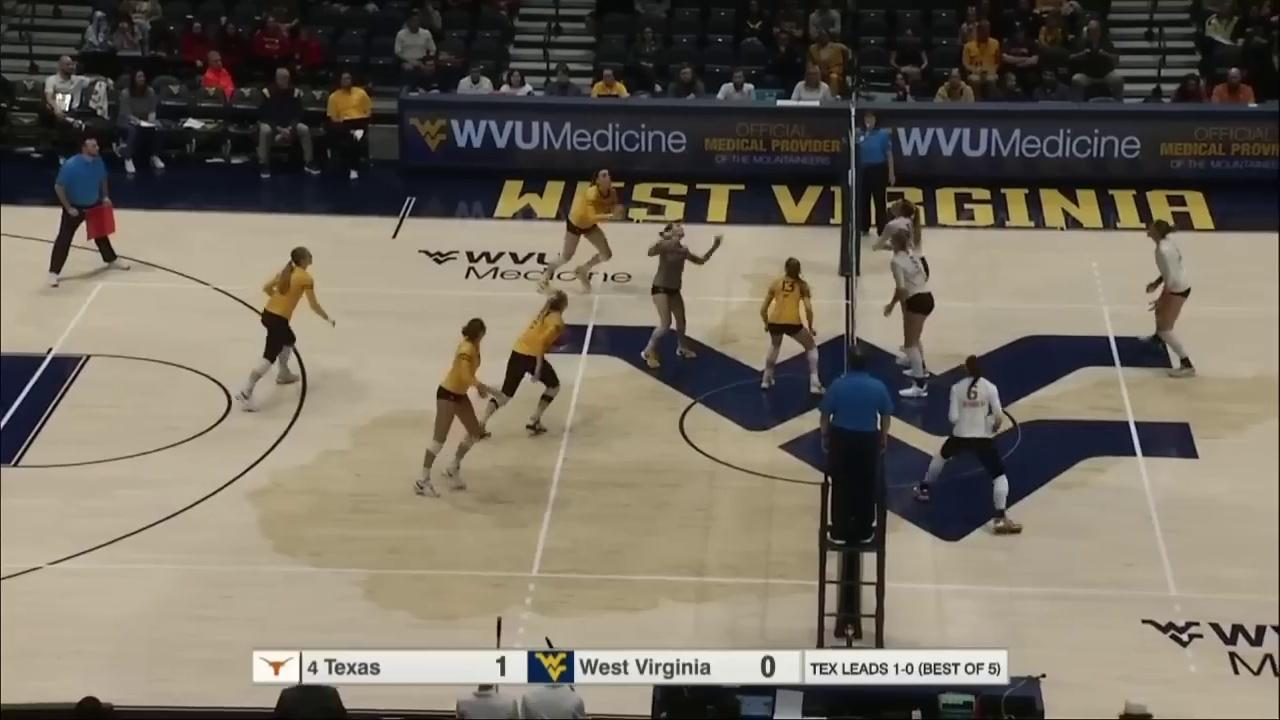player: (913, 355, 1029, 539), (241, 248, 341, 412), (419, 320, 506, 495), (476, 286, 570, 437), (641, 217, 719, 370), (535, 167, 620, 294), (759, 257, 827, 396), (1143, 221, 1201, 380), (885, 199, 932, 380), (886, 229, 932, 397)
refree: (816, 345, 893, 545), (36, 133, 131, 290), (852, 109, 895, 244)
